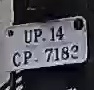1: (49, 25, 55, 43), (53, 47, 59, 63)
2: (70, 44, 79, 62)
4: (56, 25, 67, 43)
7: (44, 46, 54, 62)
8: (60, 45, 69, 62)
C: (12, 51, 21, 68)
P: (33, 27, 43, 47), (23, 48, 32, 66)
U: (22, 27, 34, 47)
